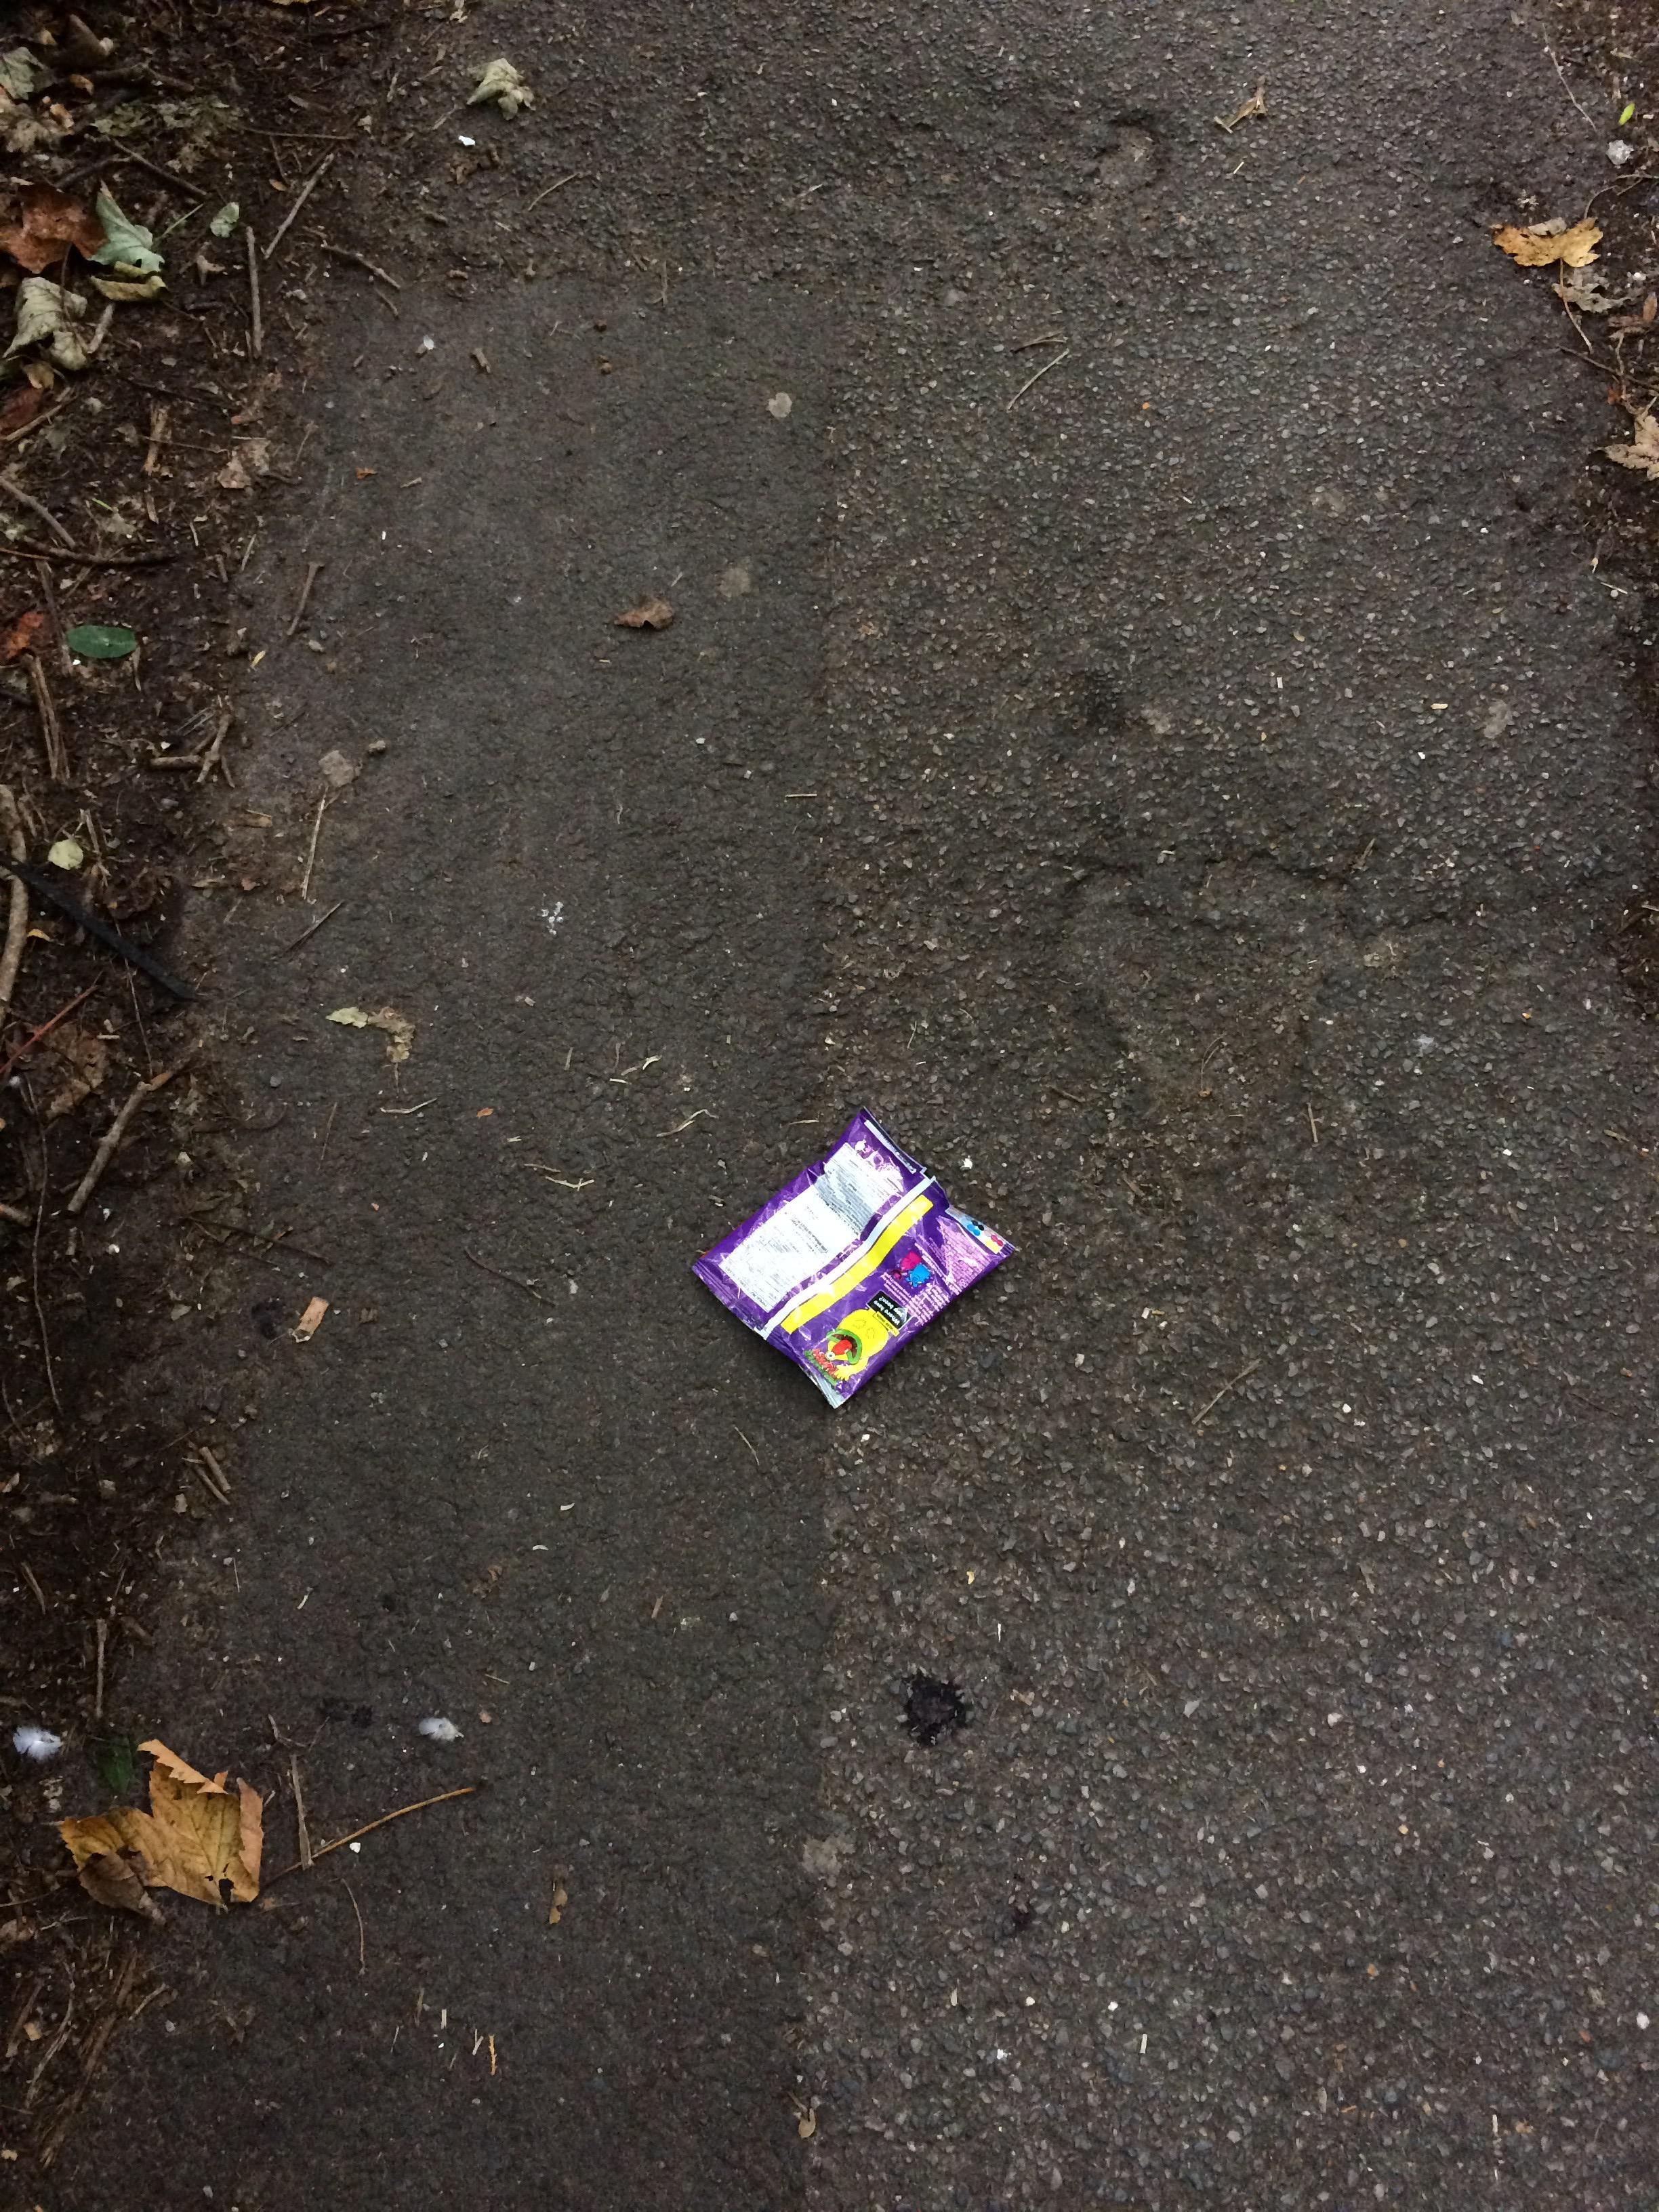Trash: (697, 1103, 1009, 1414)
